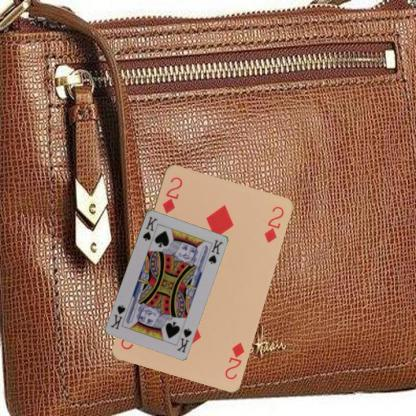2d: (159, 174, 184, 214), (222, 339, 245, 381)
Ks: (174, 325, 193, 354), (140, 214, 158, 242)
